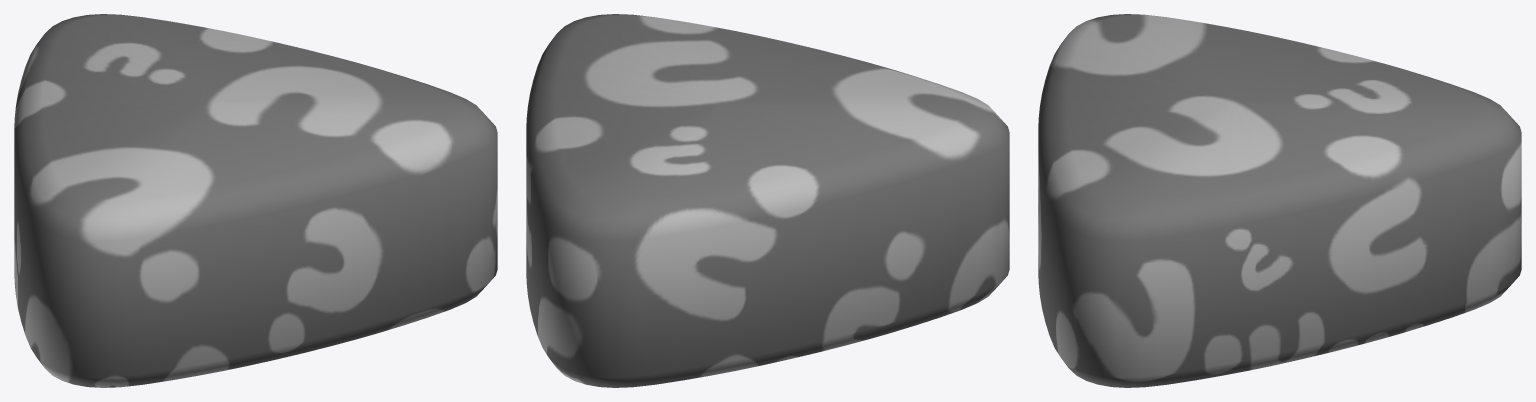
File: triangle.fbx
The picture shows the model from 3 angles, left to right: view 1: azimuth 30°, elevation 25°; view 2: azimuth 150°, elevation 25°; view 3: azimuth 270°, elevation 25°; orthographic projection.
Visible parts, largest first — view 1: triangle_inactive; view 2: triangle_inactive; view 3: triangle_inactive.
Boxes of the visible parts, x1,y1,x2,y2 form: triangle_inactive: (14,14,497,387); triangle_inactive: (526,14,1009,387); triangle_inactive: (1038,14,1521,387).
Bounding box in the file's own units: 77.67 × 33.07 × 73.08.
